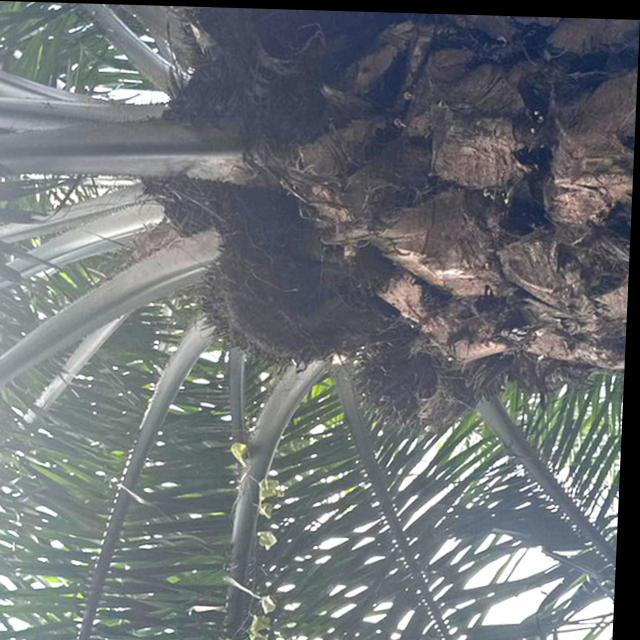unripe: (190, 248, 354, 370), (351, 334, 454, 427)
